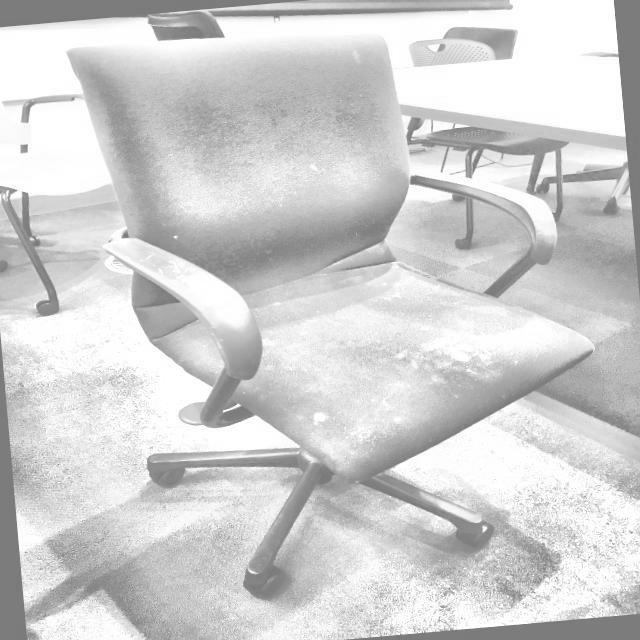chair: (63, 6, 618, 620)
